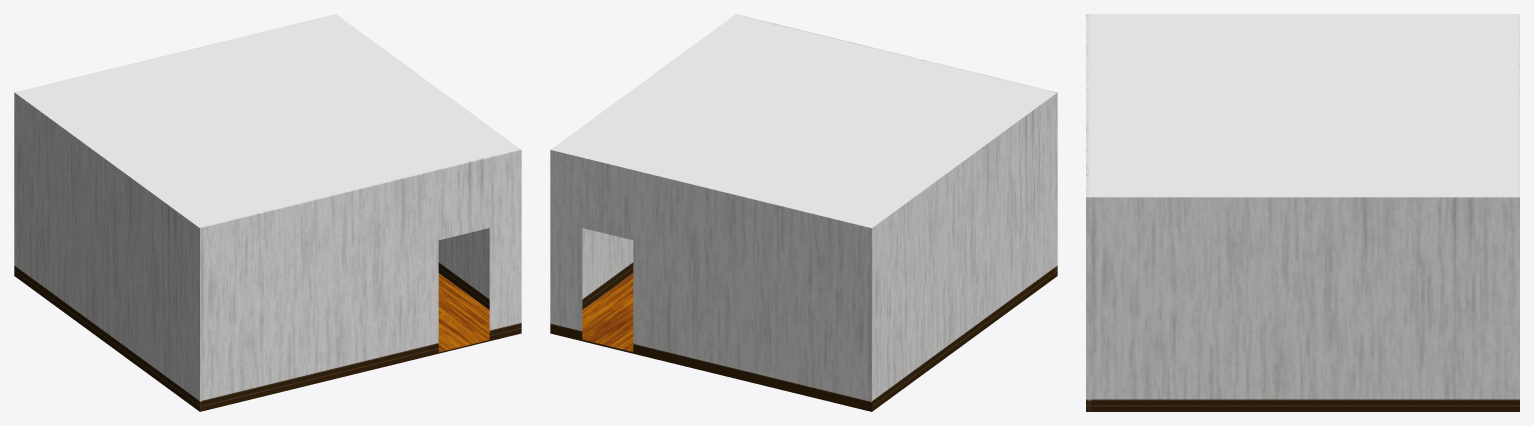
Rendered from Room02.fbx.
3 renders of one model, left to right at view 1: azimuth 30°, elevation 25°; view 2: azimuth 150°, elevation 25°; view 3: azimuth 270°, elevation 25°, orthographic. The views are drawn at different scales.
Visible parts, largest first — view 1: pCube32; view 2: pCube32; view 3: pCube32.
Boxes of the visible parts, box(x1,y1,x2,y2) form: pCube32: box(14, 14, 521, 411); pCube32: box(550, 14, 1057, 411); pCube32: box(1086, 14, 1519, 411).
Size of the model in its own units: 649 by 354 by 649.
1 material, 1 textured.
